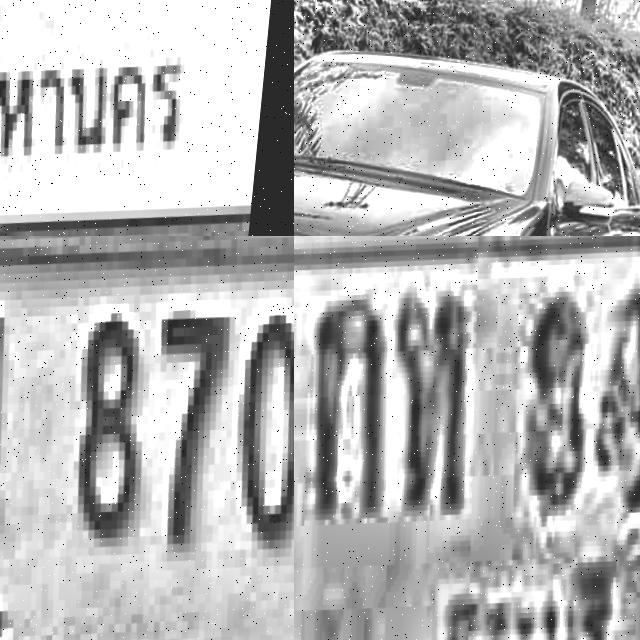license-plate: (294, 236, 640, 640), (0, 236, 294, 640), (0, 0, 294, 236)
